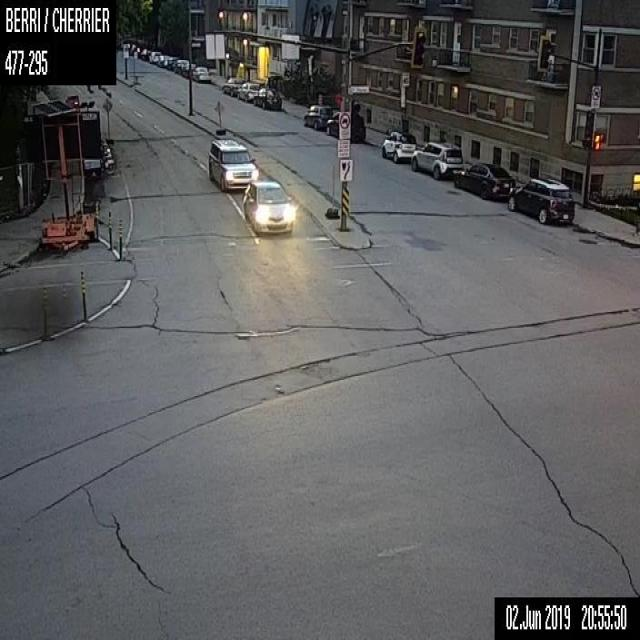construction: (28, 99, 103, 252), (326, 161, 338, 216), (102, 99, 114, 142), (213, 98, 225, 134), (42, 285, 47, 339), (80, 268, 85, 320), (118, 217, 122, 256), (108, 211, 112, 249), (334, 92, 342, 103), (317, 94, 322, 104)
vehicle: (506, 178, 574, 224), (242, 180, 292, 236), (452, 160, 515, 202), (208, 139, 258, 190), (410, 139, 463, 179), (326, 110, 366, 140), (380, 129, 416, 161), (302, 104, 332, 128), (252, 86, 281, 108), (236, 81, 258, 102), (220, 76, 242, 96), (191, 65, 210, 81), (172, 59, 188, 74), (181, 62, 195, 78), (164, 56, 177, 69), (148, 51, 160, 63), (140, 48, 150, 60), (157, 54, 166, 66), (136, 46, 140, 57)
